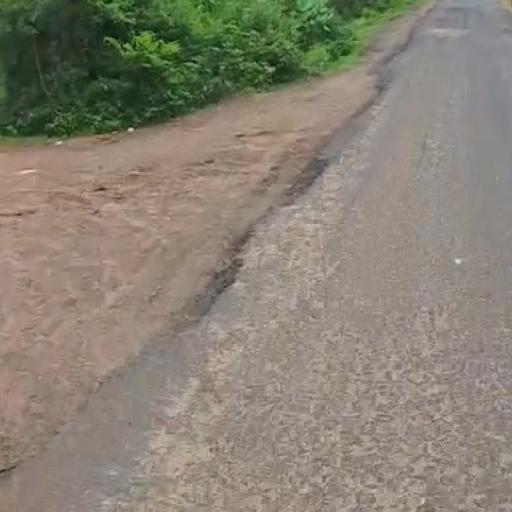edge_damage: (74, 89, 413, 415)
